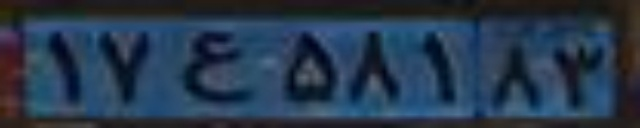1: (43, 29, 82, 103), (420, 31, 456, 102)
3: (549, 43, 607, 108)
5: (282, 32, 337, 102)
7: (94, 29, 150, 104)
8: (346, 31, 400, 103), (486, 42, 542, 109)
ain: (176, 30, 254, 102)
